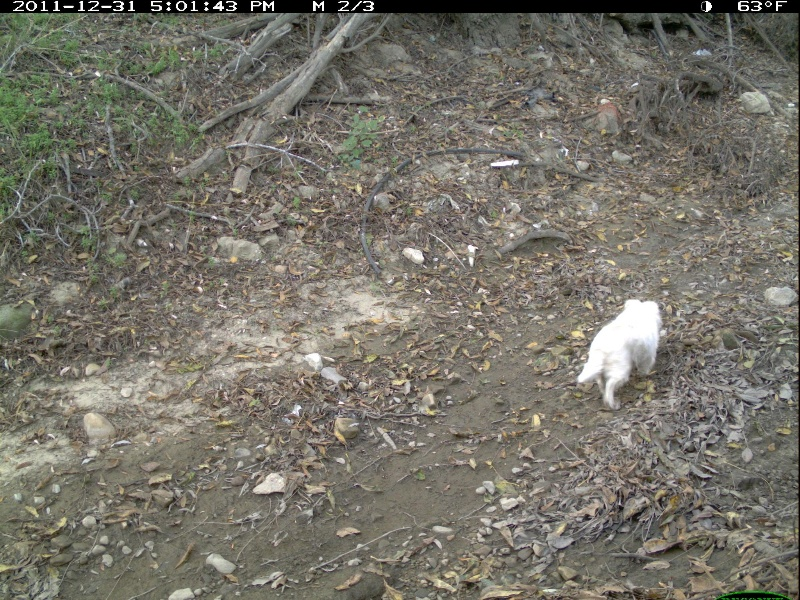dog: (580, 297, 667, 410)
